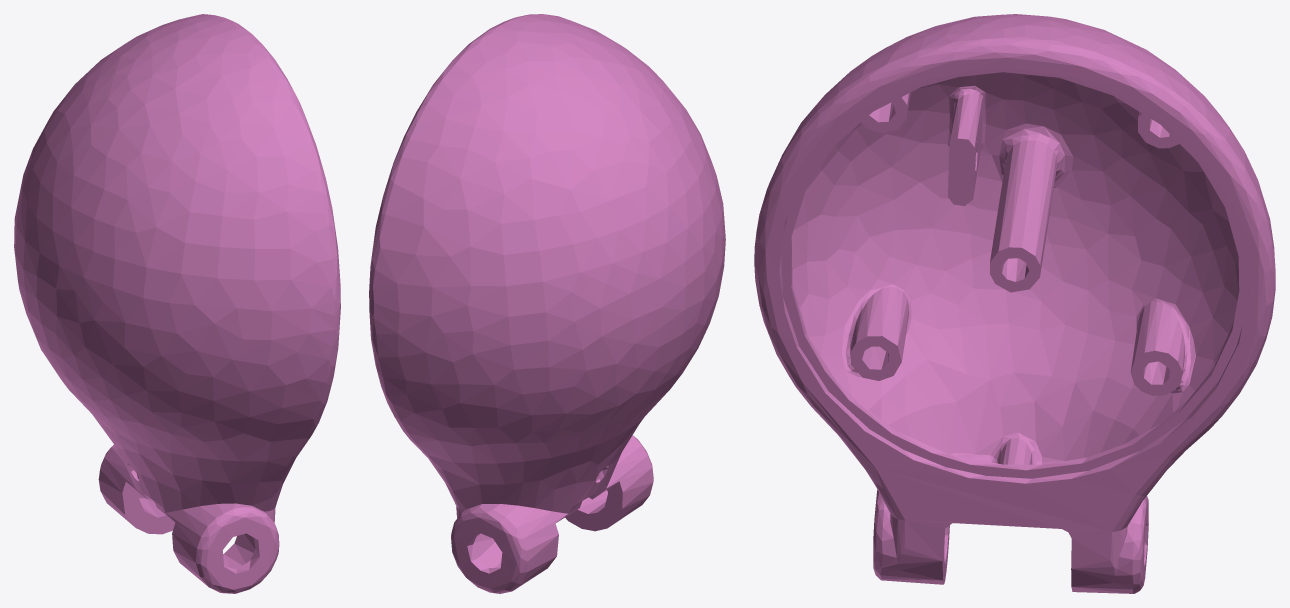
Rendered from ear.dae.
3 renders of one model, left to right at view 1: azimuth 30°, elevation 25°; view 2: azimuth 150°, elevation 25°; view 3: azimuth 270°, elevation 25°, orthographic. The views are drawn at different scales.
Visible parts, largest first — view 1: simc_shell1_ear; view 2: simc_shell1_ear; view 3: simc_shell1_ear.
Part boxes in pixels (x1=…): simc_shell1_ear: x1=14, y1=14, x2=340, y2=593; simc_shell1_ear: x1=369, y1=14, x2=725, y2=593; simc_shell1_ear: x1=754, y1=14, x2=1275, y2=593.
Bounding box in the file's own units: 0.0441 × 0.081 × 0.0991.
